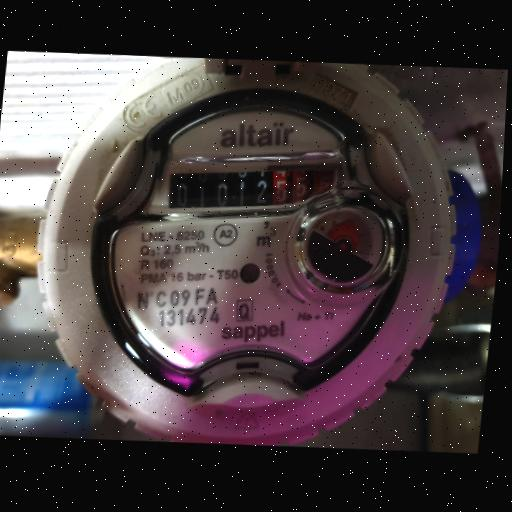0: (207, 170, 236, 208), (167, 172, 195, 209)
1: (228, 170, 255, 207), (189, 172, 213, 209)
2: (249, 169, 277, 207)
5: (269, 169, 296, 206), (288, 169, 315, 204), (310, 168, 336, 200)
border_water_meter_number: (154, 144, 349, 231)
